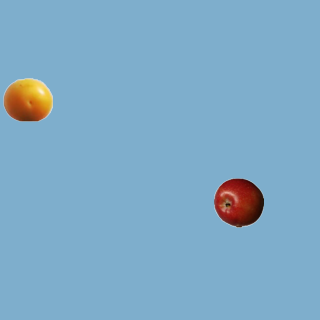Apple Braeburn: (213, 177, 263, 227)
Cherry Wax Yellow: (2, 74, 52, 124)
